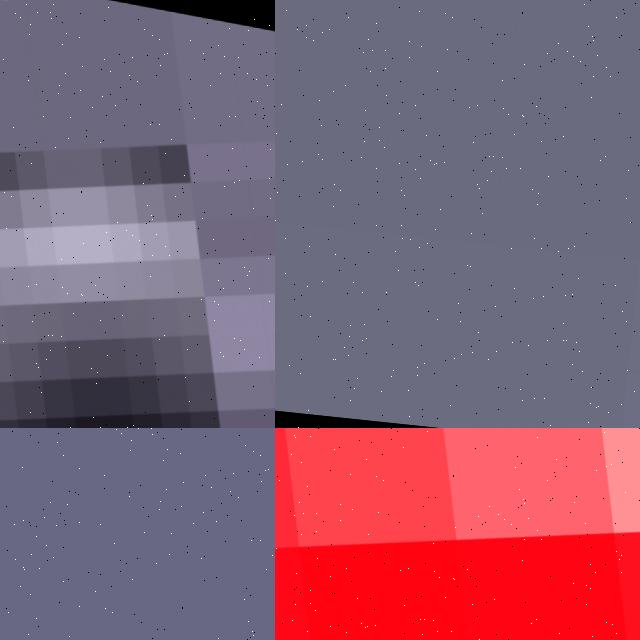0: (0, 0, 275, 428)
drone: (275, 428, 640, 640)
